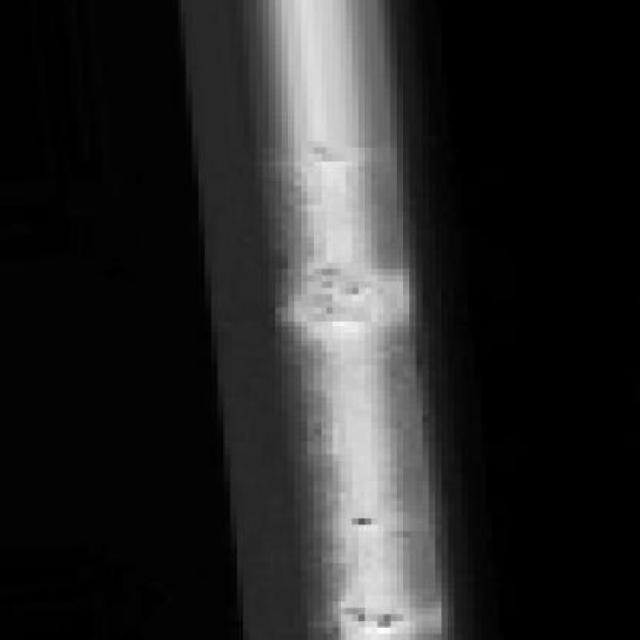non-defective: (133, 0, 506, 640)
